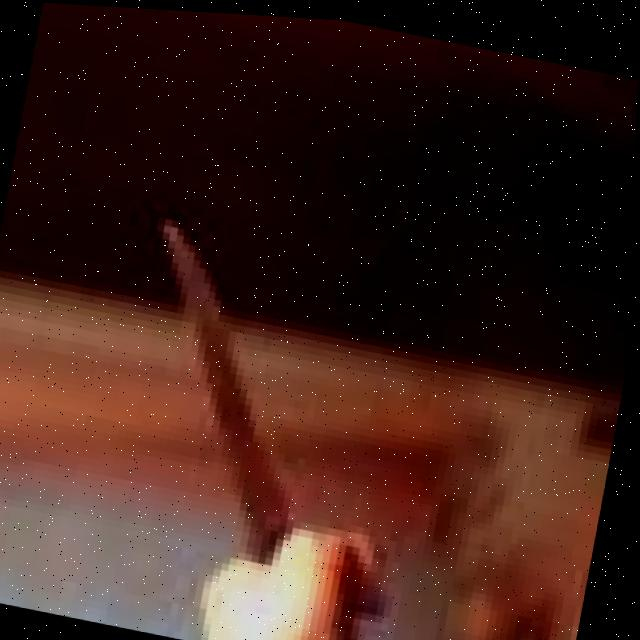knife: (98, 205, 343, 557)
